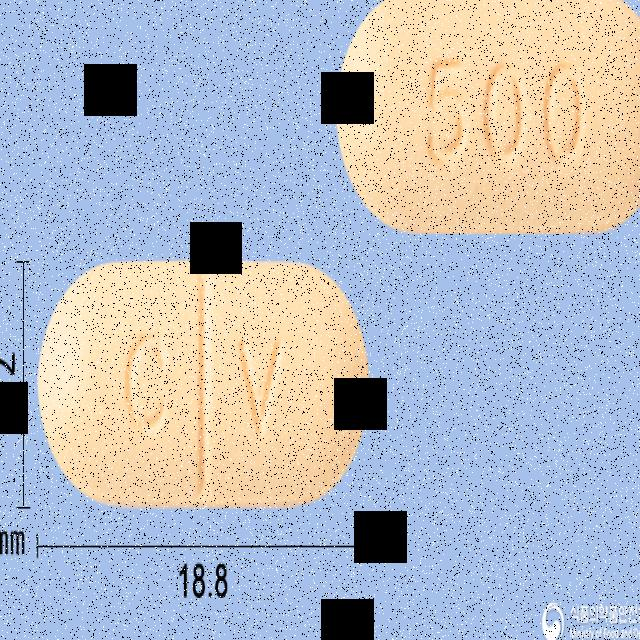Cravit: (38, 258, 369, 508), (335, 0, 640, 230)
